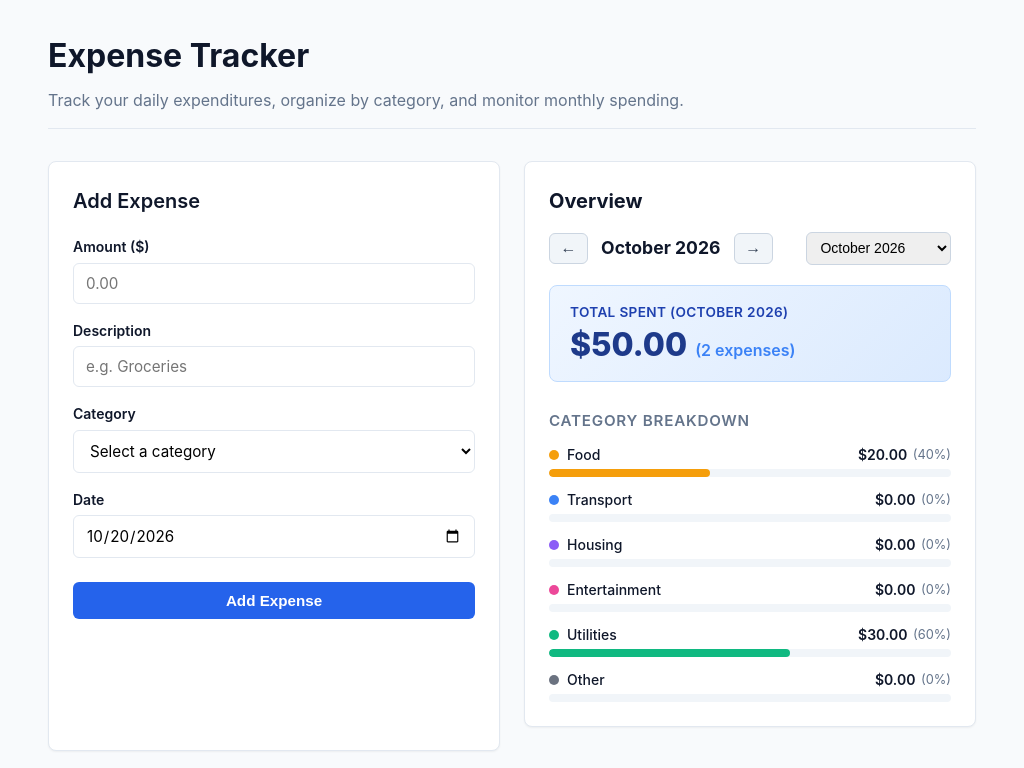
QA Edge Case & Boundary Verification - Issue #7 (Expense Count next to Total) › Full Application Integration and Reactive State Changes › switches count when navigating between months
expect the text with test id "monthly-total-value" reads "$50.00": met, box [570,325,687,364]
expect the text with test id "monthly-total-count" reads "(2 expenses)": met, box [695,338,796,362]
Navigate to previous month (September)
Click the button named "previous month".
click(568, 248)  # box [549,233,588,264]
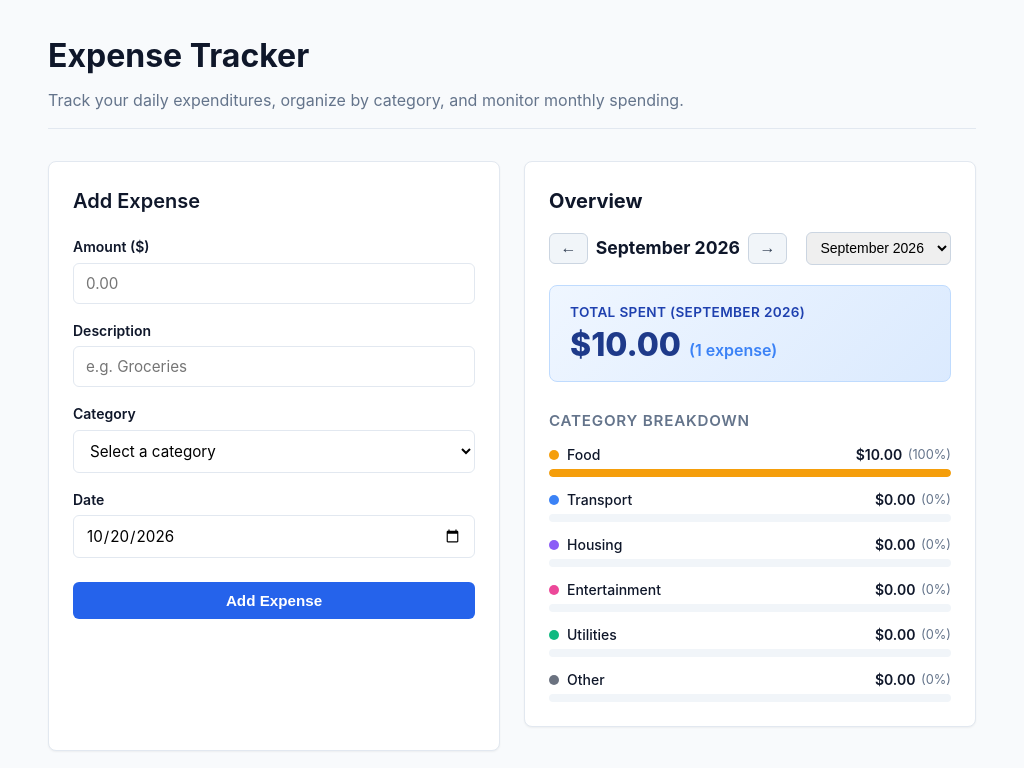
expect the text with test id "monthly-total-value" reads "$10.00": met, box [570,325,681,364]
expect the text with test id "monthly-total-count" reads "(1 expense)": met, box [689,338,777,362]
Navigate back to October
Click the button named "next month".
click(767, 248)  # box [748,233,787,264]
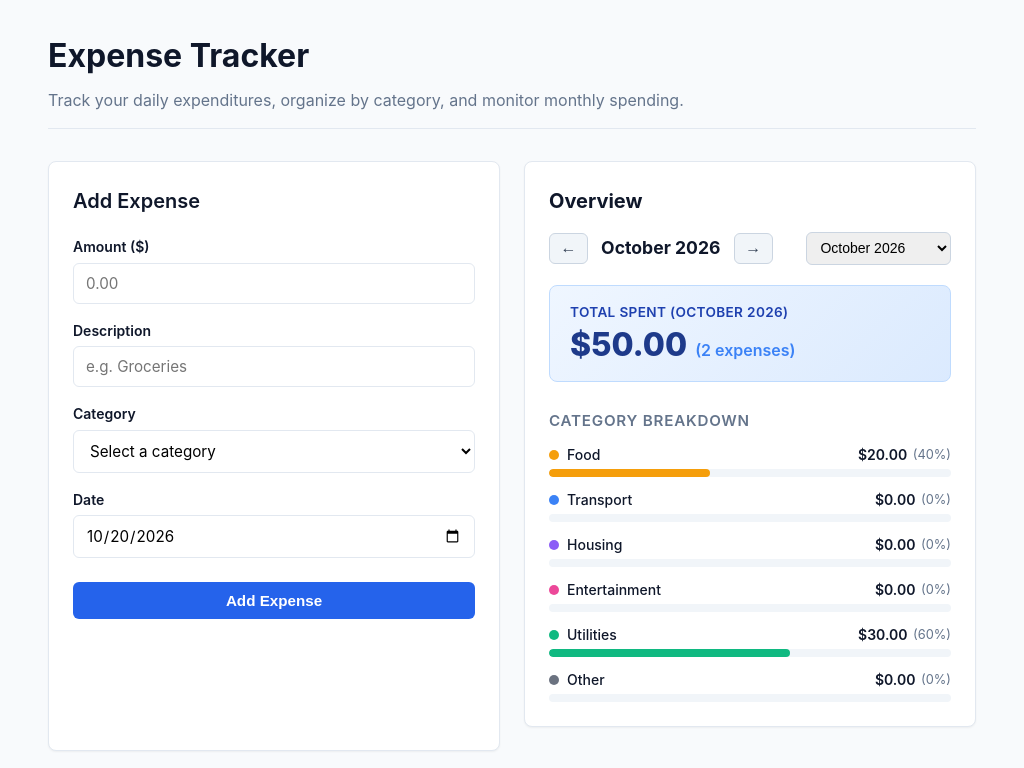
expect the text with test id "monthly-total-value" reads "$50.00": met, box [570,325,687,364]
expect the text with test id "monthly-total-count" reads "(2 expenses)": met, box [695,338,796,362]
Navigate to November
Click the button named "next month".
click(753, 248)  # box [734,233,773,264]
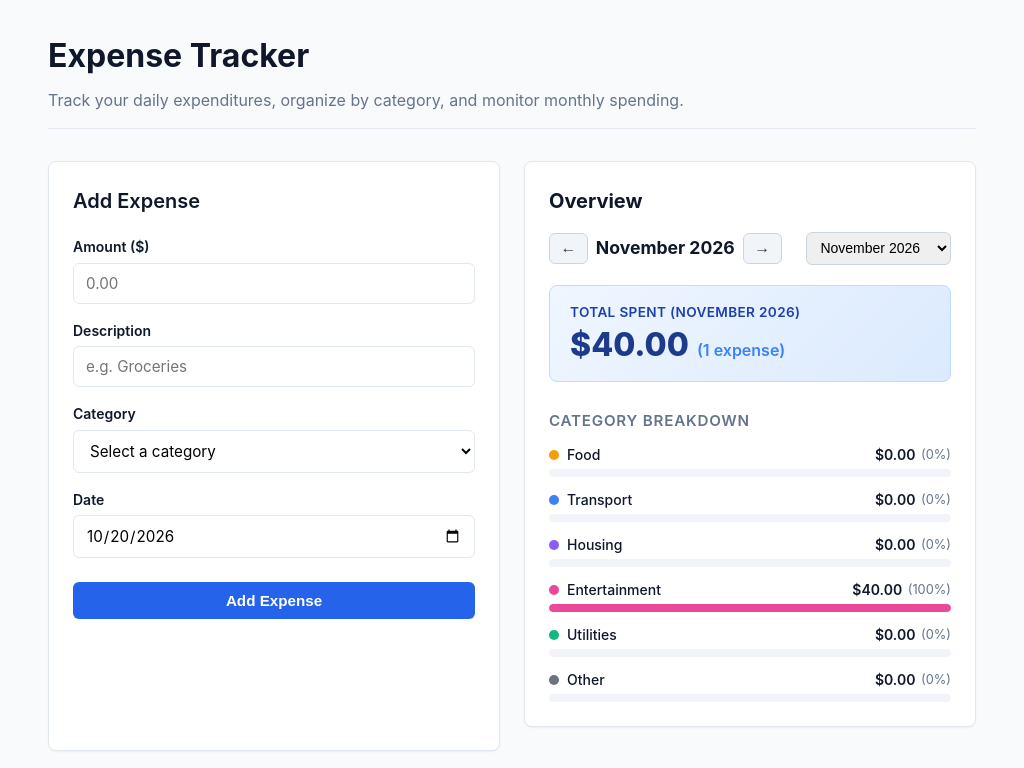
expect the text with test id "monthly-total-value" reads "$40.00": met, box [570,325,689,364]
expect the text with test id "monthly-total-count" reads "(1 expense)": met, box [697,338,785,362]
Navigate to December (empty)
Click the button named "next month".
click(762, 248)  # box [743,233,782,264]
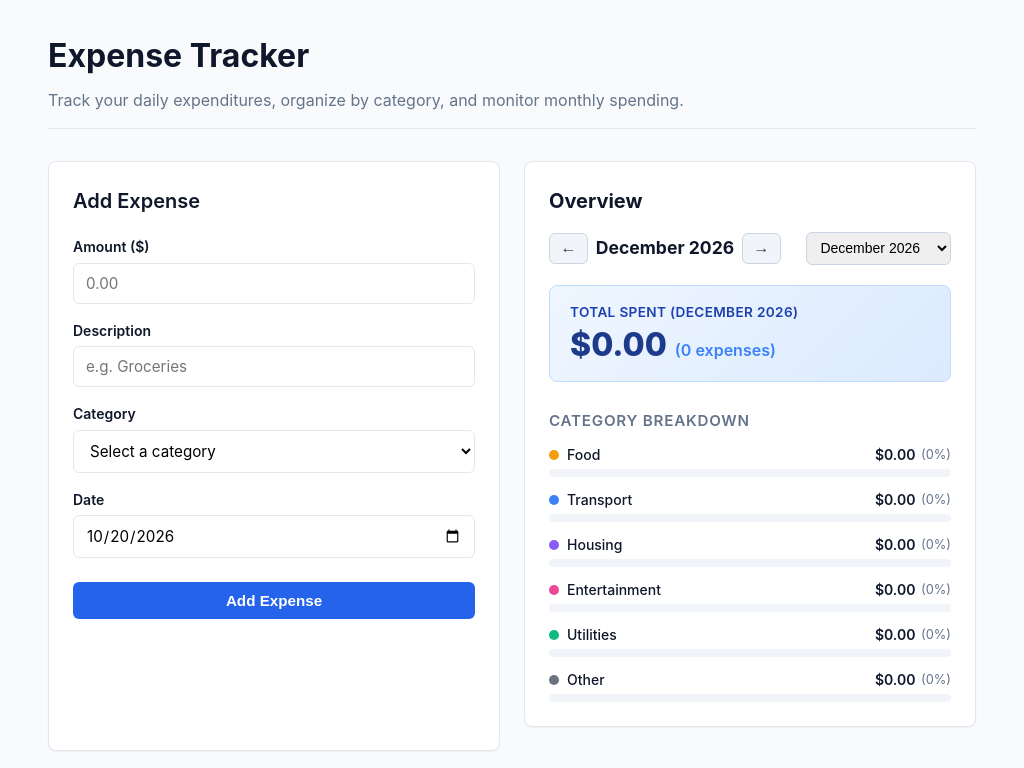
expect the text with test id "monthly-total-value" reads "$0.00": met, box [570,325,667,364]
expect the text with test id "monthly-total-count" reads "(0 expenses)": met, box [675,338,776,362]
